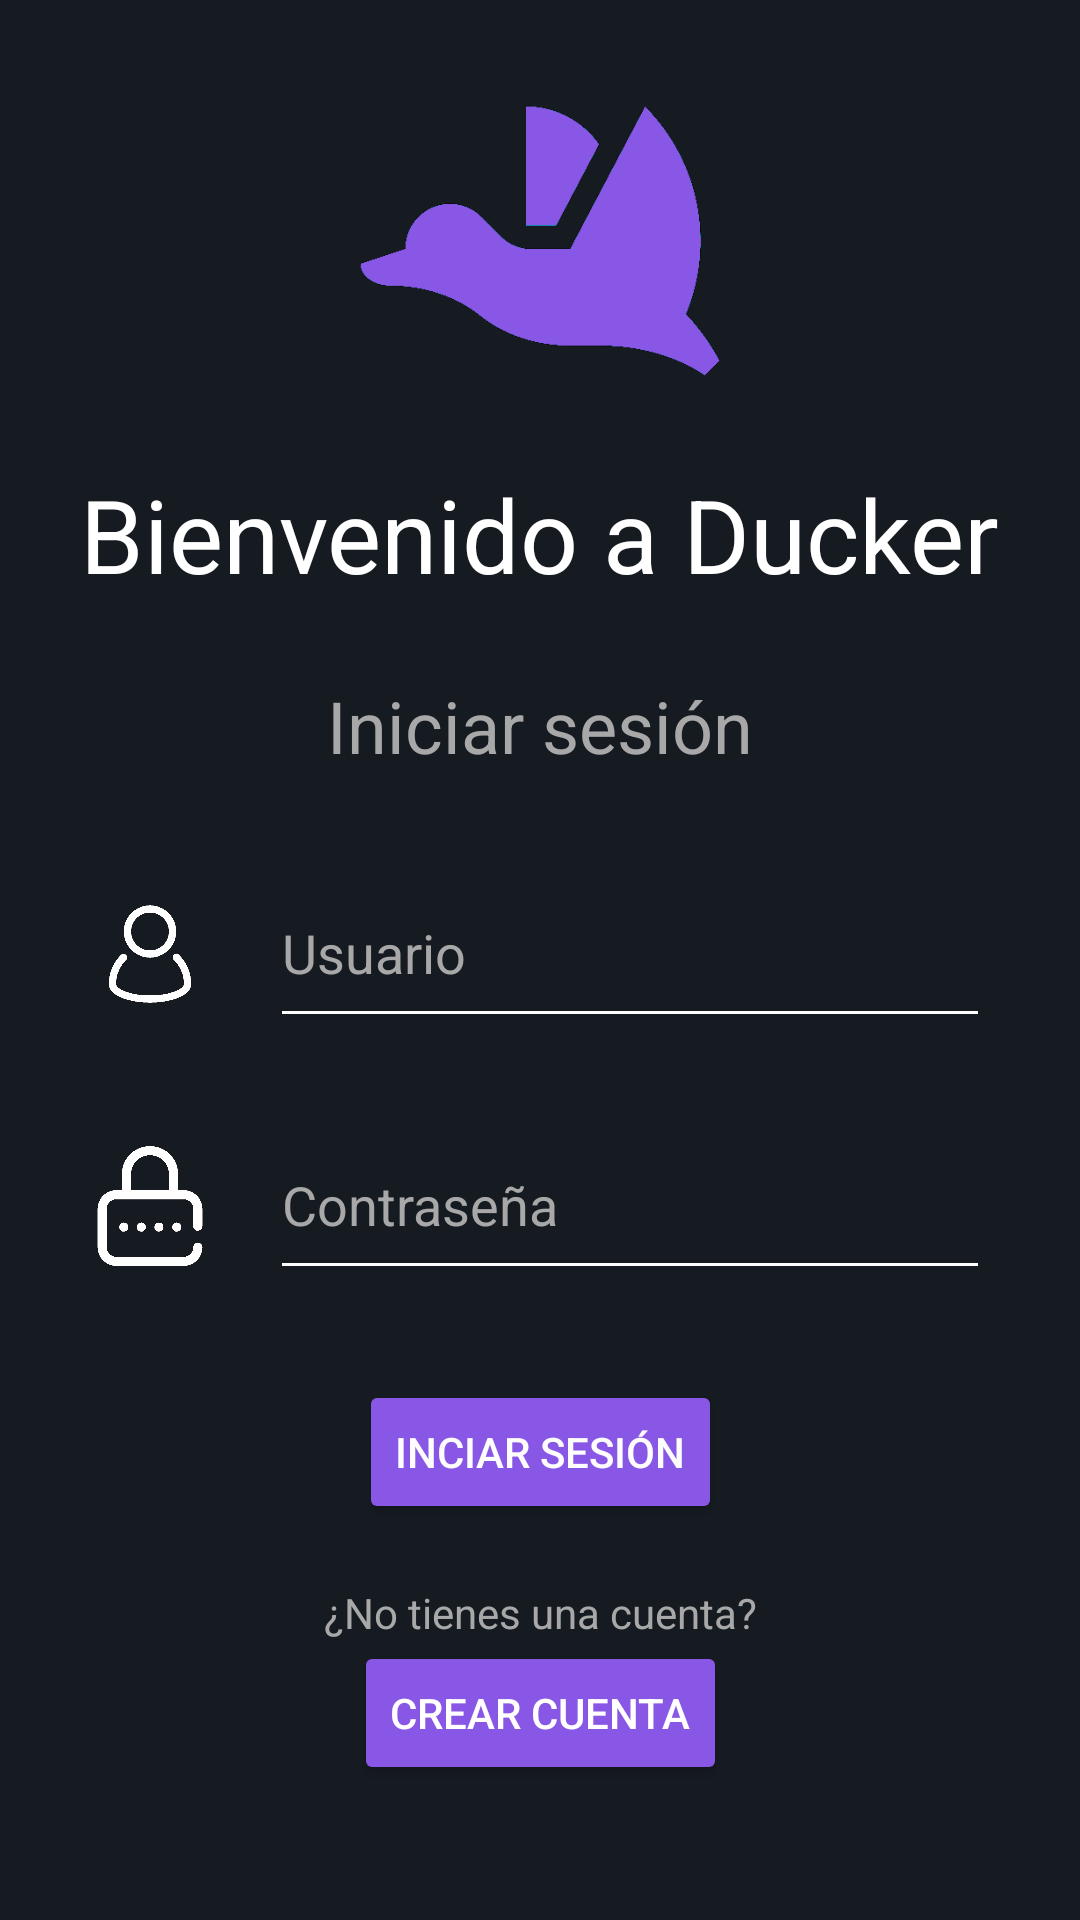

Named icons in this screenshot (1080w x 1920h) and their bounding boxes, (x1, y1, x2, y2):
account: (109, 905, 191, 1003)
passwordwhite: (97, 1146, 203, 1266)
